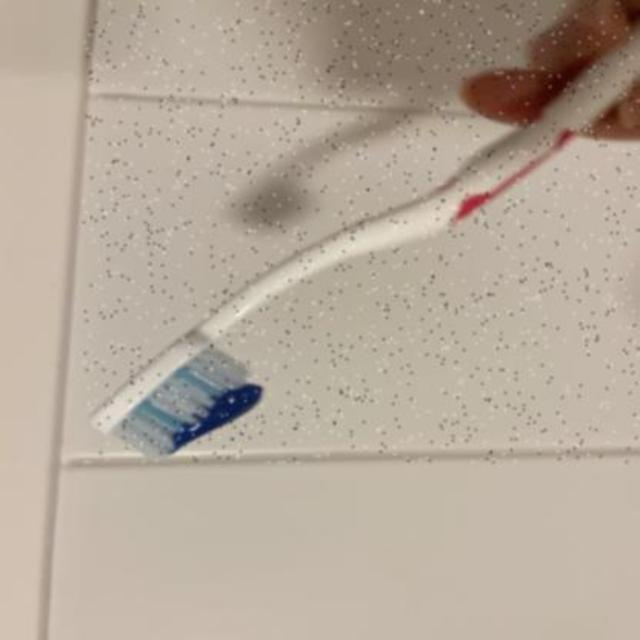toothbrush: (84, 1, 640, 463)
